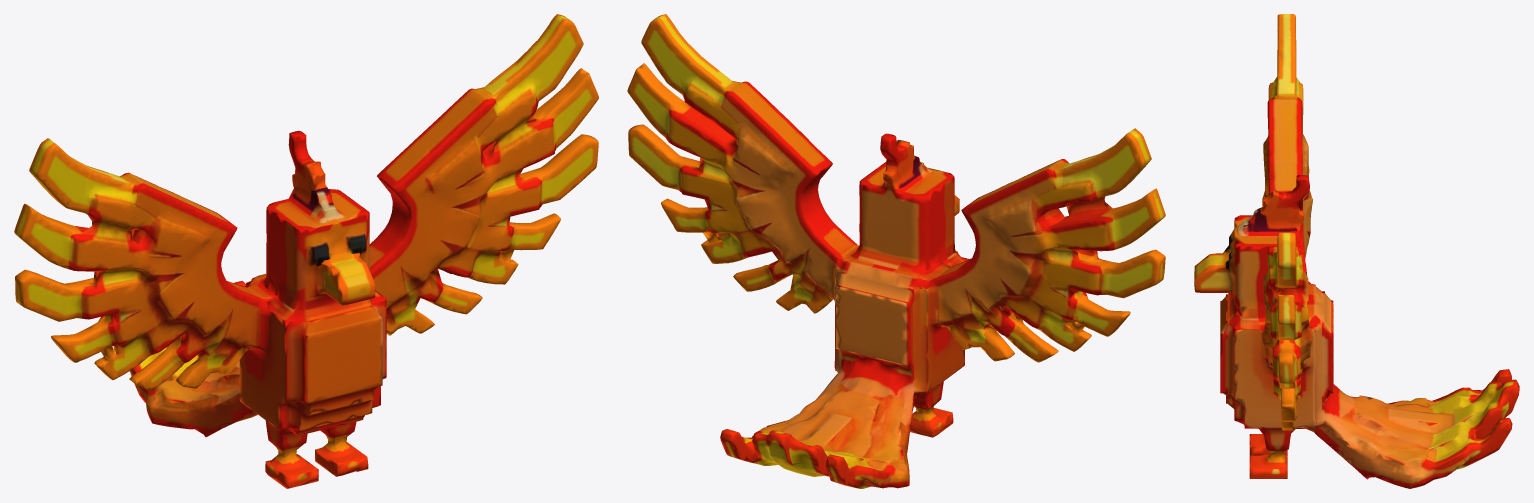
File: phoenix.fbx
3 renders of one model, left to right at view 1: azimuth 30°, elevation 25°; view 2: azimuth 150°, elevation 25°; view 3: azimuth 270°, elevation 25°, orthographic. The views are drawn at different scales.
Visible parts, largest first — view 1: Phoenix; view 2: Phoenix; view 3: Phoenix.
Boxes of the visible parts, left/top/right/bottom form: Phoenix: left=14, top=14, right=598, bottom=488; Phoenix: left=627, top=14, right=1165, bottom=488; Phoenix: left=1194, top=14, right=1519, bottom=488.
Size of the model in its own units: 70.62 by 45 by 39.19.
Materials: 1 (1 with a texture image).
